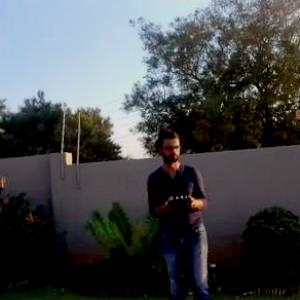follow: (144, 123, 215, 299)
